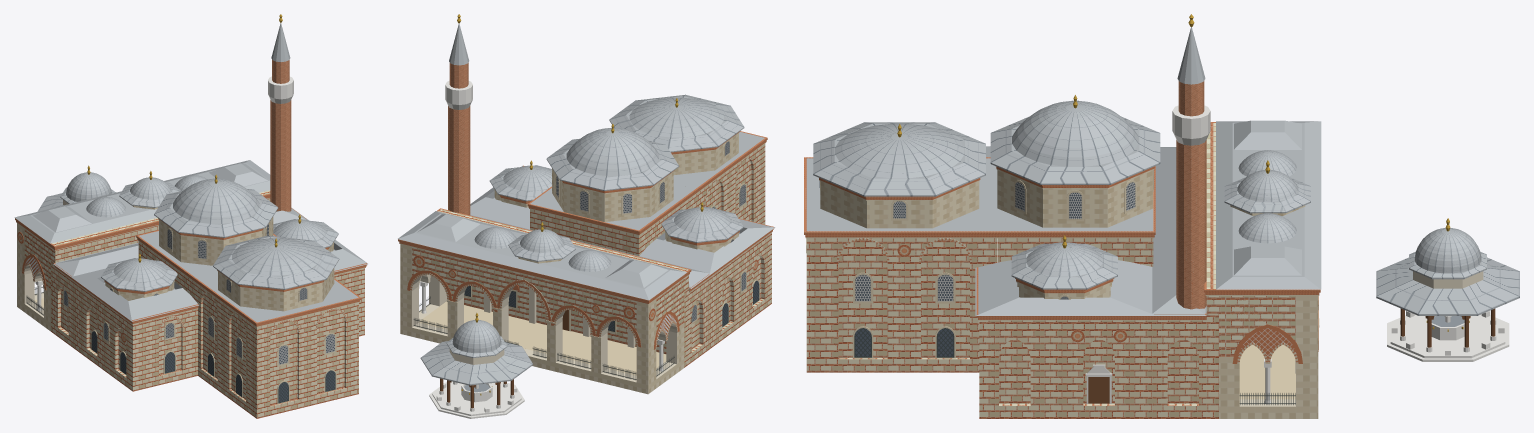
File: orhan-bey-camii_v11.glb
The picture shows the model from 3 angles, left to right: view 1: azimuth 30°, elevation 25°; view 2: azimuth 150°, elevation 25°; view 3: azimuth 270°, elevation 25°; orthographic projection. The views are drawn at different scales.
Parts seen in each view (by area): view 1: Cami_Govde, Cami_Mihrap, Cami_SonCemaat, Kubbe_Mihrap, Kubbe_Ana, Cami_Ortu, Minare, Kubbe_Tabhaneler, Sadirvan, Kubbe_Pencereler; view 2: Cami_SonCemaat, Cami_Govde, Kubbe_Ana, Sadirvan, Kubbe_Mihrap, Cami_Ortu, Kubbe_Tabhaneler, Minare, Cami_Mihrap, Kubbe_Pencereler; view 3: Cami_Govde, Cami_SonCemaat, Cami_Mihrap, Kubbe_Ana, Kubbe_Mihrap, Cami_Ortu, Sadirvan, Minare, Kubbe_Tabhaneler, Kubbe_Pencereler.
Part boxes in pixels (x1=…): Cami_Govde: x1=15, y1=171, x2=367, y2=403; Cami_Mihrap: x1=191, y1=280, x2=358, y2=418; Cami_SonCemaat: x1=14, y1=160, x2=270, y2=331; Kubbe_Mihrap: x1=213, y1=235, x2=339, y2=311; Kubbe_Ana: x1=154, y1=178, x2=278, y2=265; Cami_Ortu: x1=53, y1=207, x2=367, y2=322; Minare: x1=268, y1=14, x2=293, y2=211; Kubbe_Tabhaneler: x1=101, y1=219, x2=338, y2=300; Sadirvan: x1=37, y1=165, x2=116, y2=211; Kubbe_Pencereler: x1=109, y1=174, x2=308, y2=302; Cami_SonCemaat: x1=398, y1=211, x2=686, y2=394; Cami_Govde: x1=398, y1=131, x2=774, y2=375; Kubbe_Ana: x1=546, y1=128, x2=679, y2=221; Sadirvan: x1=420, y1=313, x2=532, y2=418; Kubbe_Mihrap: x1=609, y1=94, x2=744, y2=174; Cami_Ortu: x1=470, y1=132, x2=775, y2=288; Kubbe_Tabhaneler: x1=489, y1=165, x2=743, y2=252; Minare: x1=445, y1=14, x2=472, y2=215; Cami_Mihrap: x1=695, y1=143, x2=765, y2=224; Kubbe_Pencereler: x1=529, y1=98, x2=734, y2=242; Cami_Govde: x1=804, y1=122, x2=1320, y2=418; Cami_SonCemaat: x1=1216, y1=120, x2=1321, y2=418; Cami_Mihrap: x1=806, y1=238, x2=997, y2=372; Kubbe_Ana: x1=990, y1=100, x2=1160, y2=227; Kubbe_Mihrap: x1=813, y1=122, x2=985, y2=228; Cami_Ortu: x1=806, y1=146, x2=1206, y2=315; Sadirvan: x1=1376, y1=218, x2=1519, y2=361; Minare: x1=1172, y1=14, x2=1210, y2=309; Kubbe_Tabhaneler: x1=1011, y1=242, x2=1117, y2=298; Kubbe_Pencereler: x1=819, y1=95, x2=1153, y2=299.
Bounding box in the file's own units: 26.2 × 28.65 × 46.86.
23 materials, 14 textured.
